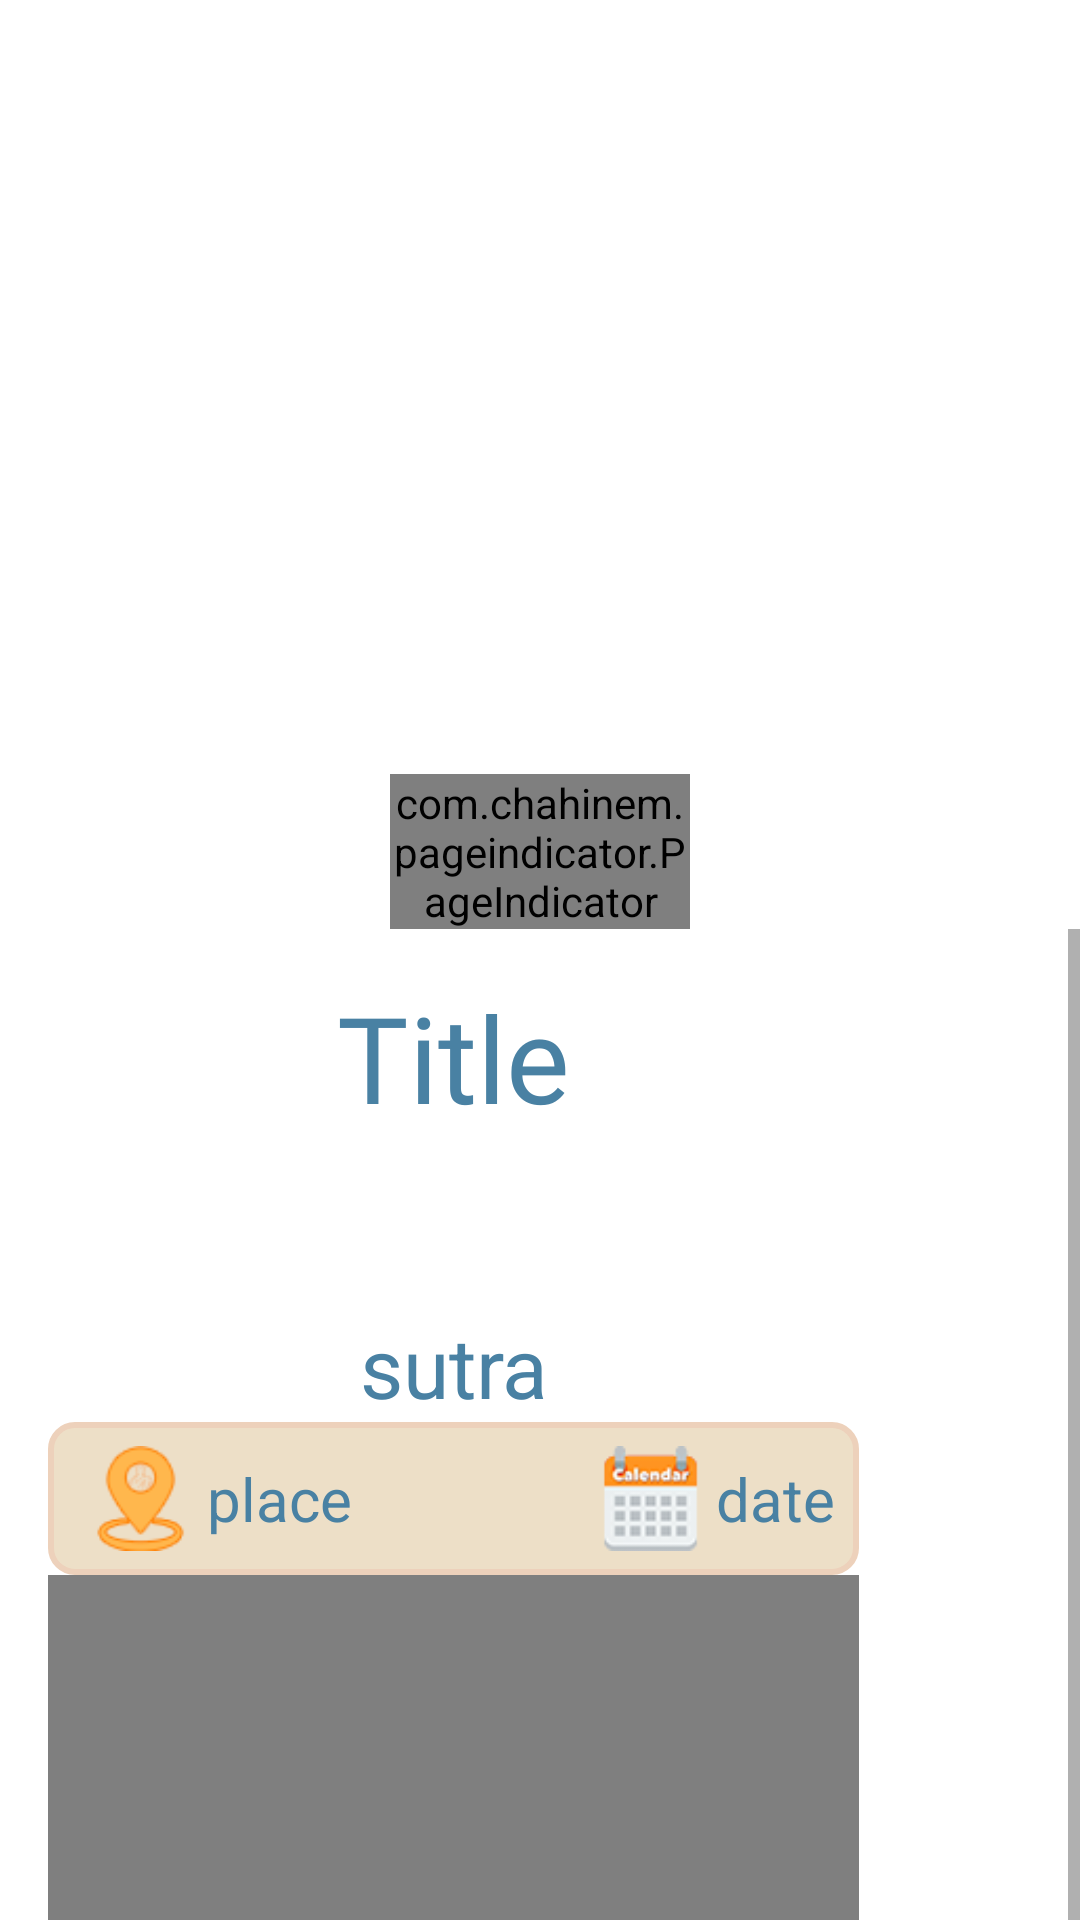

Screen size 1080 × 1920. Icon name, then its center in pixels as (x=x, y=y):
locationpin: (x=140, y=1498)
